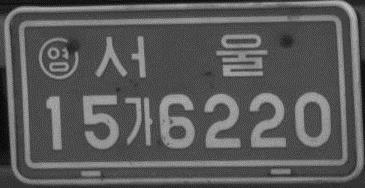0: (294, 89, 331, 148)
1: (42, 93, 65, 152)
2: (247, 91, 287, 149), (203, 92, 242, 150)
5: (80, 92, 120, 151)
6: (158, 93, 196, 149)
가: (122, 95, 155, 149)
서울_D: (90, 31, 270, 80)
영: (37, 34, 80, 79)
